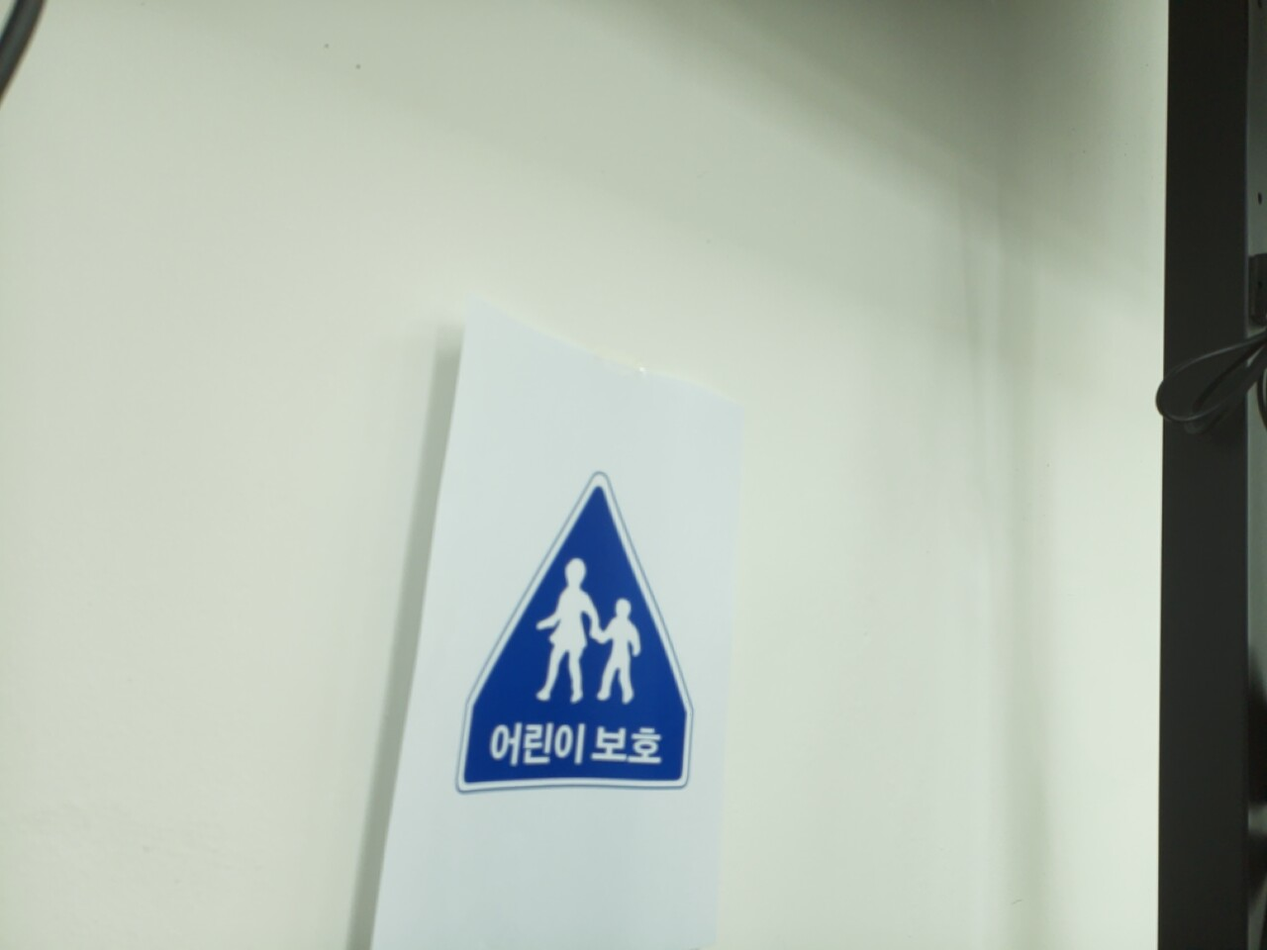school_zone: (455, 476, 695, 794)
